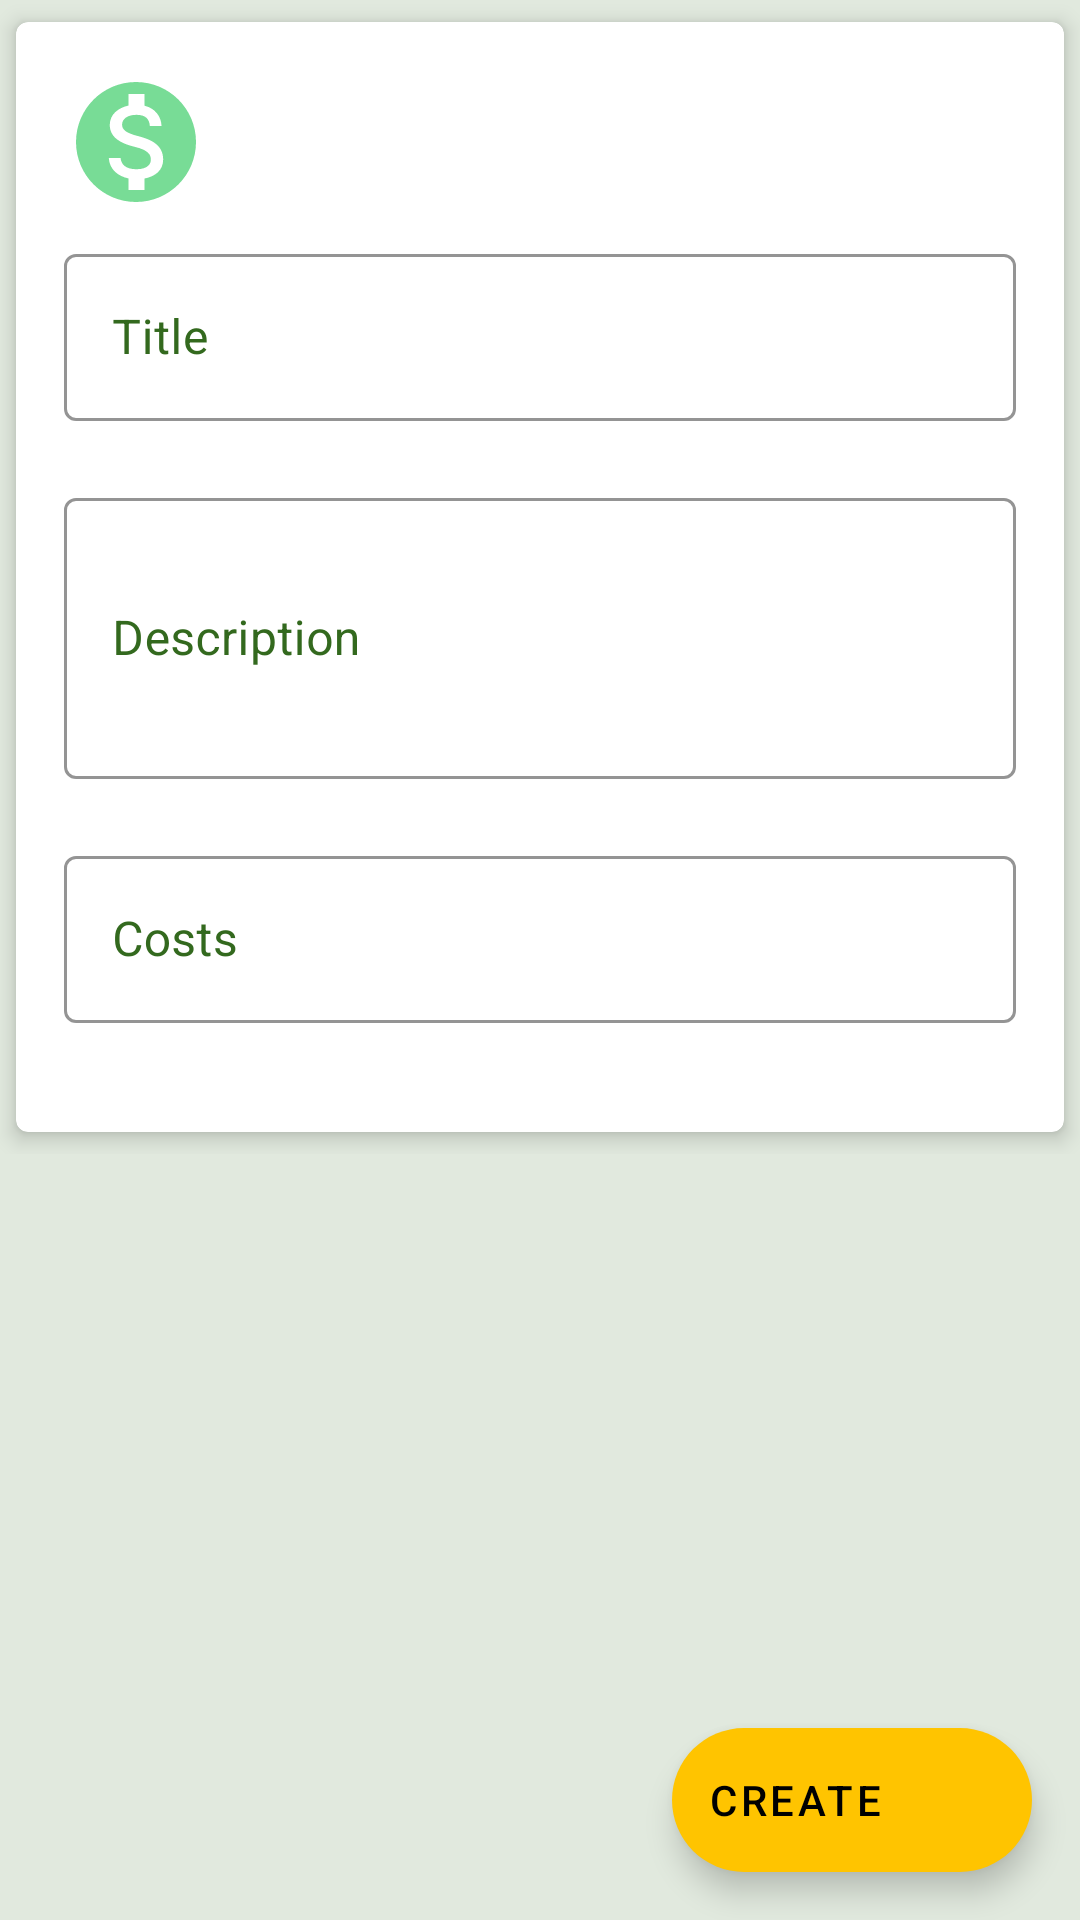

Named icons in this screenshot (1080px x 1920px) and their bounding boxes, (x1, y1, x2, y2):
income: (76, 82, 196, 202)
